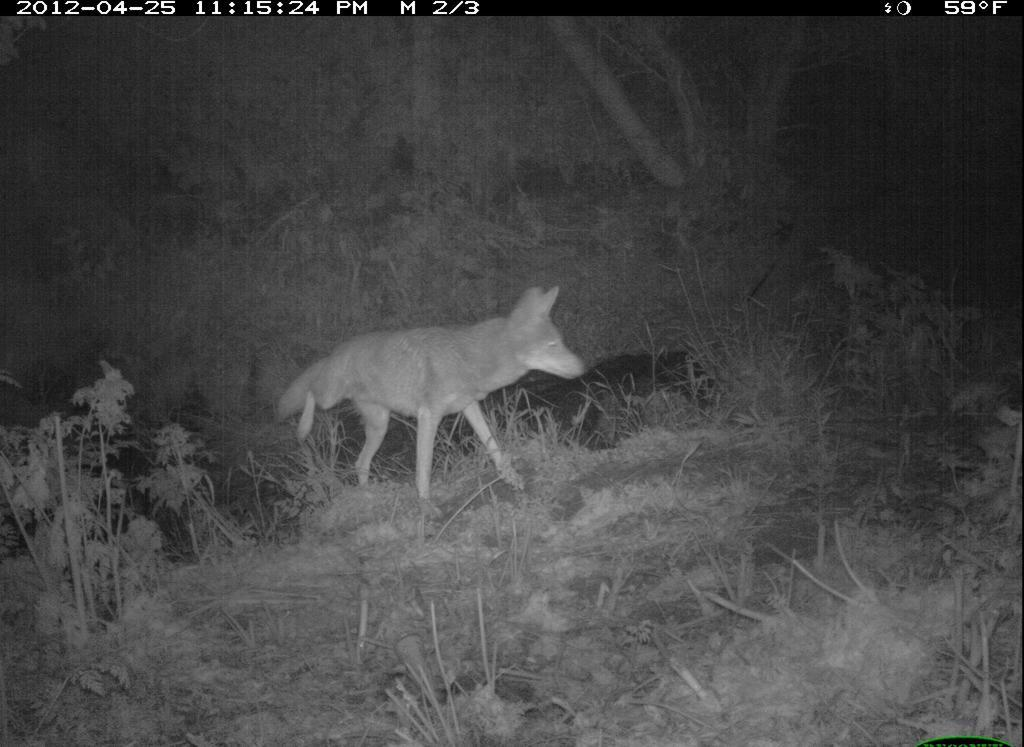coyote: (274, 282, 600, 511)
